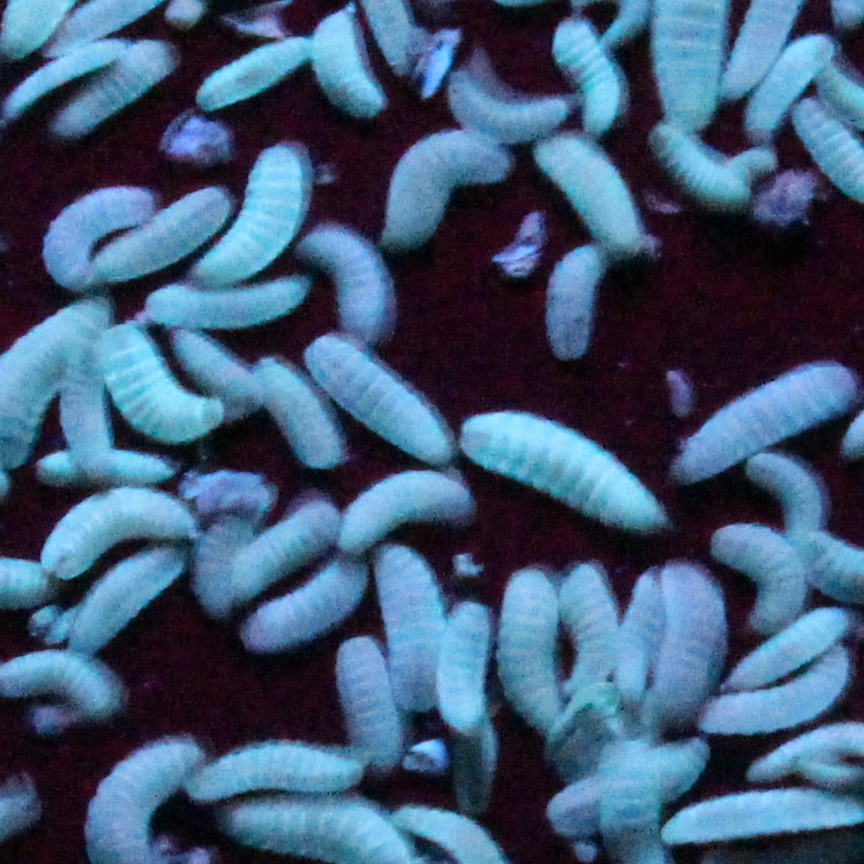larve: (462, 406, 672, 522), (546, 728, 714, 842), (689, 366, 861, 468), (304, 342, 448, 460), (200, 140, 314, 284), (530, 130, 652, 256), (34, 489, 206, 578), (97, 324, 221, 442), (65, 544, 189, 661), (641, 98, 764, 211), (240, 556, 376, 653), (394, 134, 514, 242), (444, 64, 582, 154), (48, 46, 172, 146), (494, 570, 566, 740), (96, 188, 226, 280), (41, 187, 155, 291), (186, 742, 369, 804), (232, 498, 339, 603), (302, 226, 394, 348), (662, 568, 732, 728), (304, 2, 390, 124), (604, 582, 672, 736), (714, 611, 849, 686), (706, 656, 854, 723), (334, 631, 399, 772), (538, 246, 614, 366), (256, 364, 338, 474), (719, 528, 811, 626), (142, 274, 312, 327), (2, 40, 132, 106), (562, 570, 626, 700), (196, 42, 308, 114), (178, 332, 266, 410), (749, 453, 831, 536), (198, 511, 247, 609), (39, 452, 178, 483)
